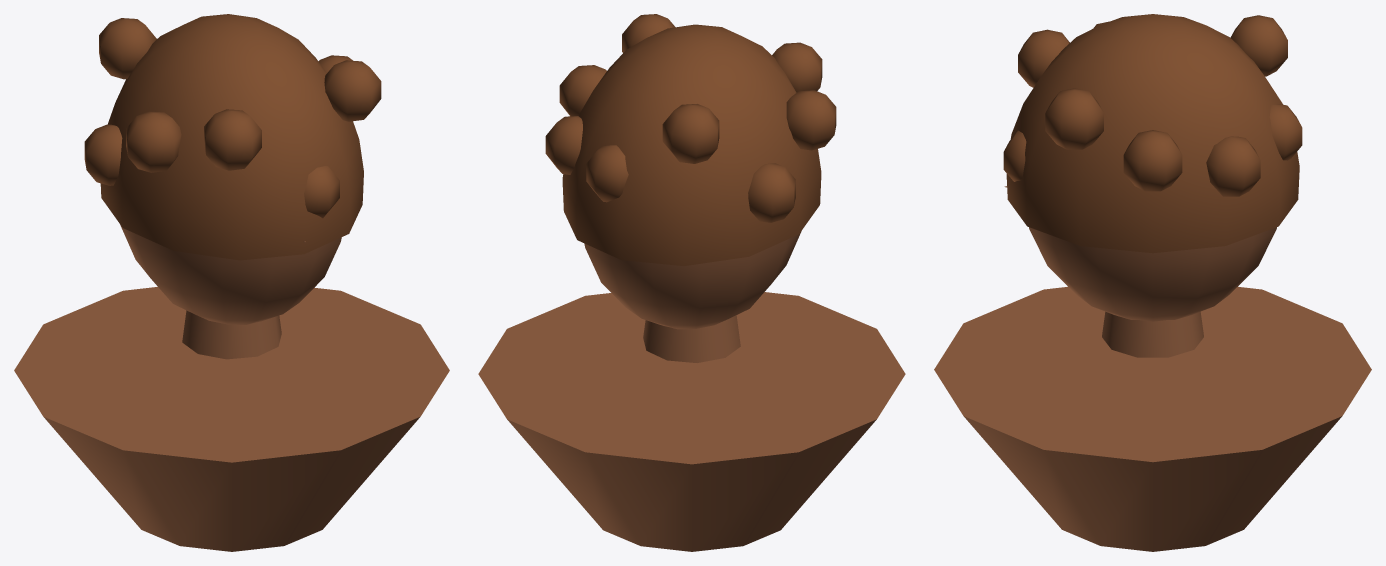
Rendered from raw_002.glb.
The picture shows the model from 3 angles, left to right: view 1: azimuth 30°, elevation 25°; view 2: azimuth 150°, elevation 25°; view 3: azimuth 270°, elevation 25°; orthographic projection. The views are drawn at different scales.
Size of the model in its own units: 1.8 by 2.2 by 1.8.
